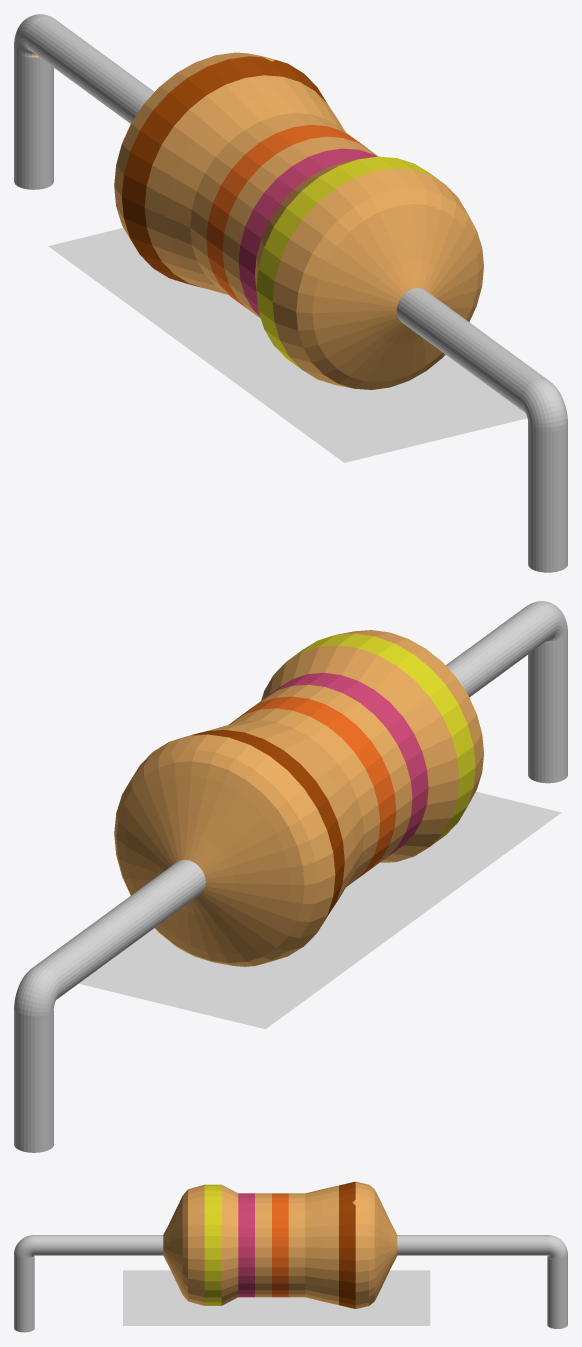
The model's file is R5_tan_8.gltf.
The picture shows the model from 3 angles, top to bottom: view 1: azimuth 30°, elevation 25°; view 2: azimuth 150°, elevation 25°; view 3: azimuth 270°, elevation 25°; orthographic projection. The views are drawn at different scales.
Visible parts, largest first — view 1: R5_tan_8, R5_tan_8_plane; view 2: R5_tan_8, R5_tan_8_plane; view 3: R5_tan_8, R5_tan_8_plane.
Part boxes in pixels (x1=…): R5_tan_8: x1=14, y1=14, x2=567, y2=572; R5_tan_8_plane: x1=48, y1=227, x2=527, y2=462; R5_tan_8: x1=14, y1=601, x2=567, y2=1152; R5_tan_8_plane: x1=79, y1=791, x2=561, y2=1029; R5_tan_8: x1=14, y1=1181, x2=567, y2=1332; R5_tan_8_plane: x1=123, y1=1270, x2=430, y2=1325.
Bounding box in the file's own units: 0.0161 × 0.0189 × 0.0676.
